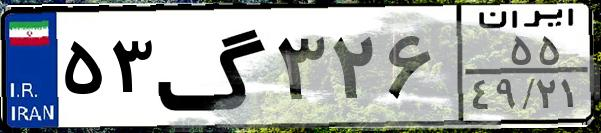1: (560, 70, 590, 125)
2: (330, 28, 385, 110), (535, 70, 560, 125)
3: (270, 28, 330, 110), (110, 28, 156, 98)
4: (470, 70, 495, 125)
5: (57, 26, 110, 100), (537, 27, 568, 80), (508, 27, 537, 80)
6: (385, 28, 445, 110)
9: (495, 70, 520, 125)
گ: (156, 12, 270, 120)
